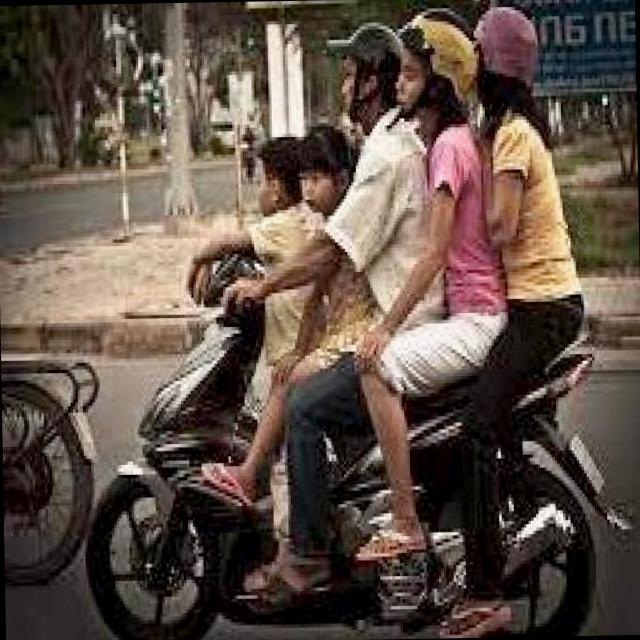motorcycle: (70, 225, 638, 640)
person: (468, 0, 602, 580), (390, 8, 508, 470), (327, 22, 436, 433), (234, 120, 323, 482), (284, 126, 384, 406)
rider_region: (80, 5, 610, 640)
